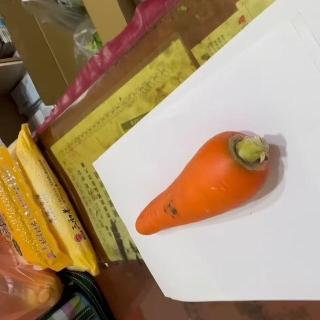carrot: (134, 131, 272, 235)
